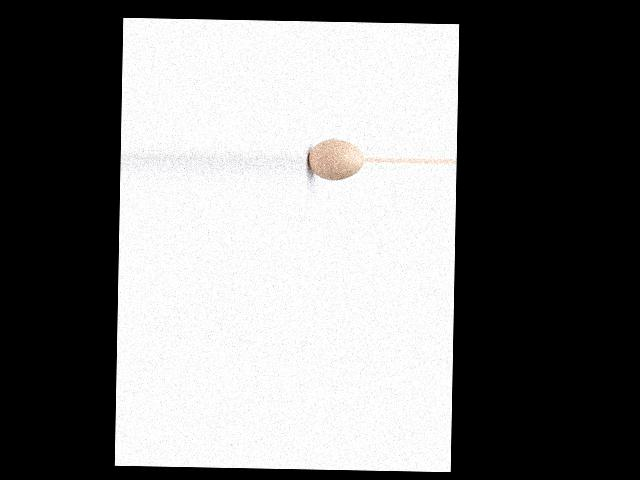egg: (307, 138, 364, 180)
